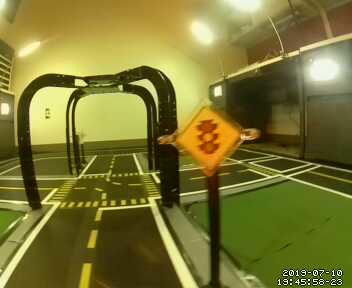Traffic light sign: (175, 105, 240, 174)
